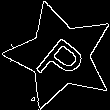P_NE: (29, 25, 92, 87)
